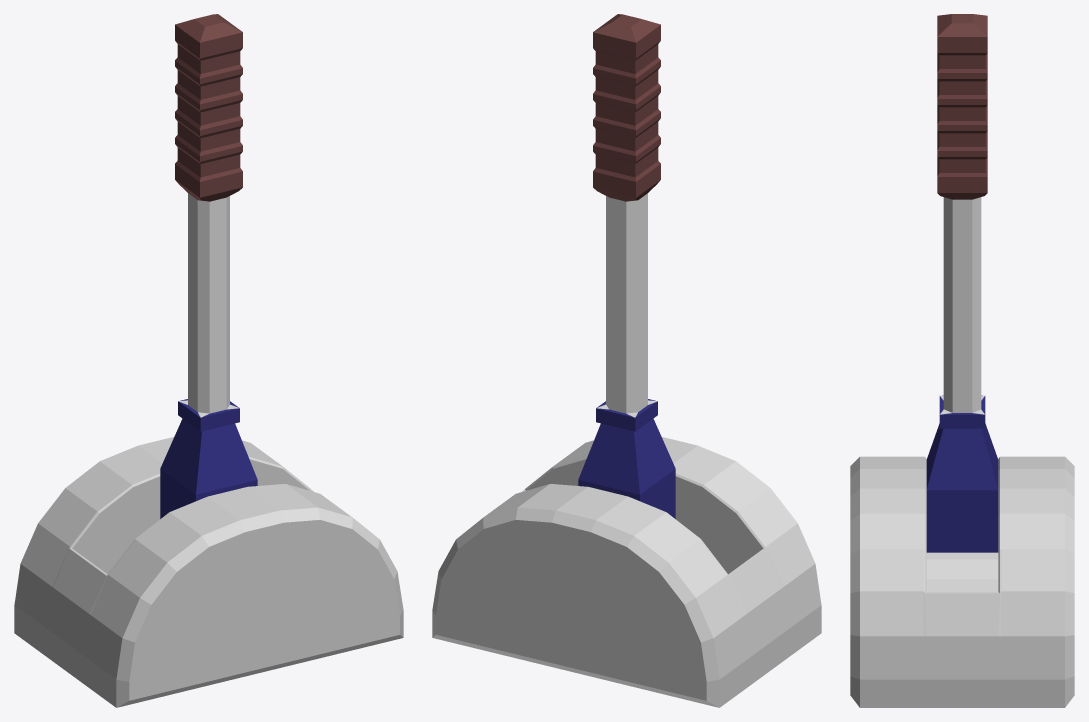
The model's file is Lever.fbx.
3 views of the same model, side by side, from view 1: azimuth 30°, elevation 25°; view 2: azimuth 150°, elevation 25°; view 3: azimuth 270°, elevation 25° (orthographic).
Parts seen in each view (by area): view 1: Lever, Handle; view 2: Lever, Handle; view 3: Lever, Handle.
Part boxes in pixels (left/top/right/bottom): Lever: left=14, top=437, right=403, bottom=707; Handle: left=160, top=14, right=257, bottom=518; Lever: left=432, top=437, right=821, bottom=707; Handle: left=578, top=14, right=675, bottom=518; Lever: left=850, top=456, right=1074, bottom=707; Handle: left=926, top=14, right=998, bottom=552.
Bounding box in the file's own units: 200 × 409 × 134.
